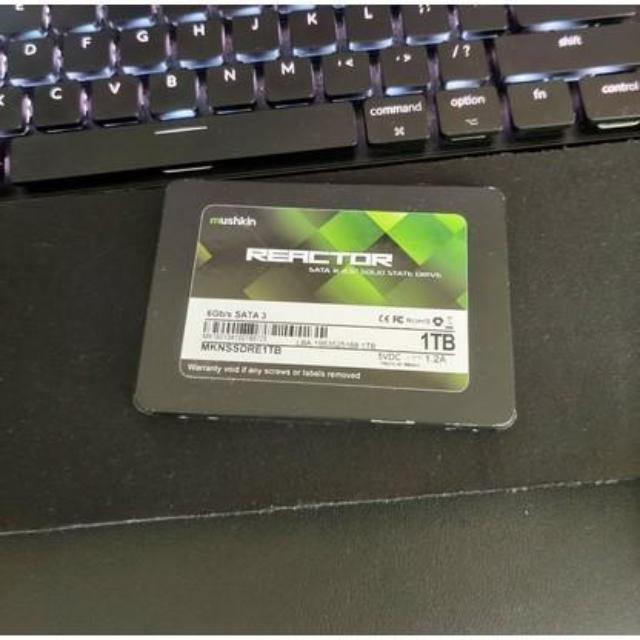DISK: (124, 170, 533, 436)
